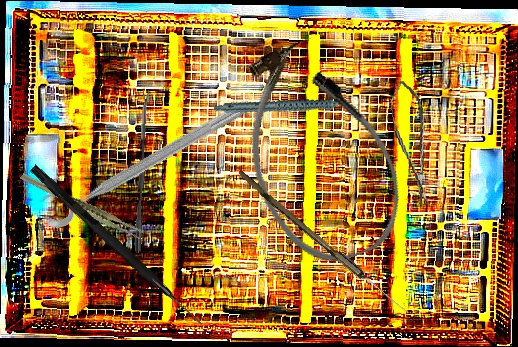Cannula: (214, 25, 422, 280)
Fixation Ring: (33, 82, 257, 233)
Handpiece: (213, 74, 360, 141)
Hook Surgical: (27, 164, 208, 328)
Micro Scissor: (387, 78, 437, 211)
Surgical Spoon: (234, 169, 412, 317), (134, 89, 151, 254)
Tissue Forceps: (19, 152, 145, 259)
